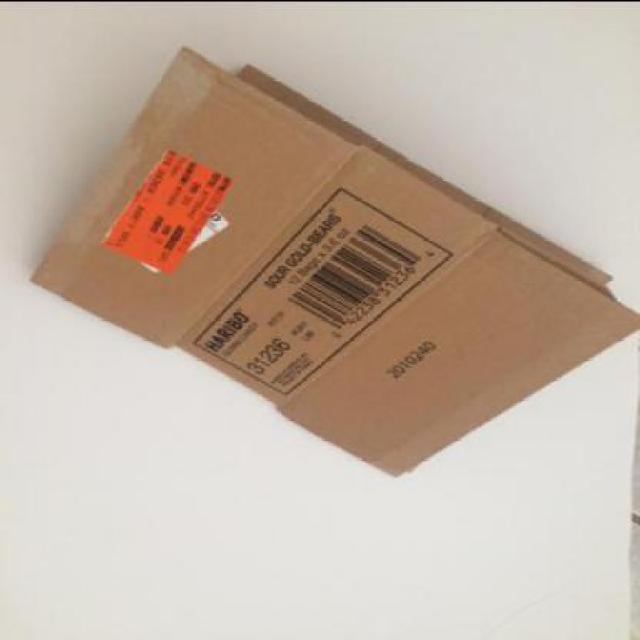CARDBOARD: (25, 46, 638, 477)
